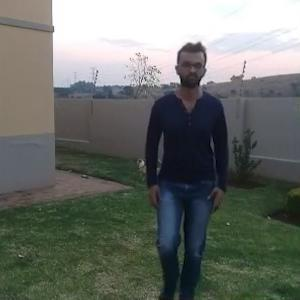follow: (148, 59, 219, 299)
